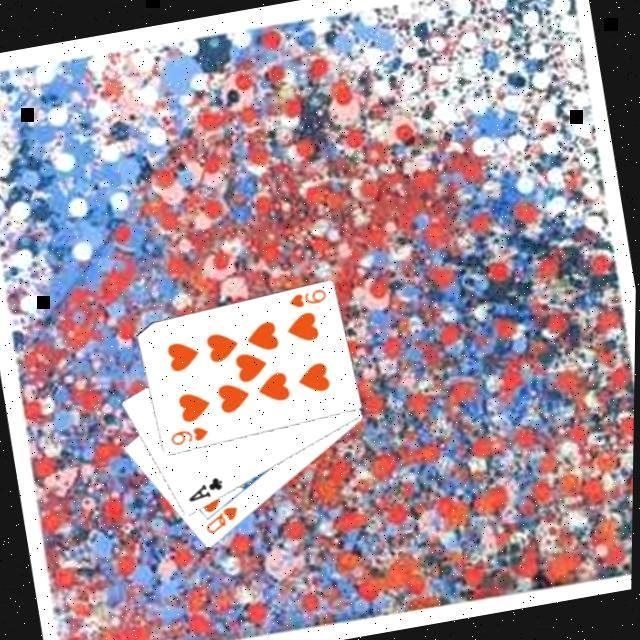9H: (164, 421, 212, 448), (282, 284, 328, 310)
AC: (181, 472, 227, 504)
QH: (198, 501, 243, 536)
